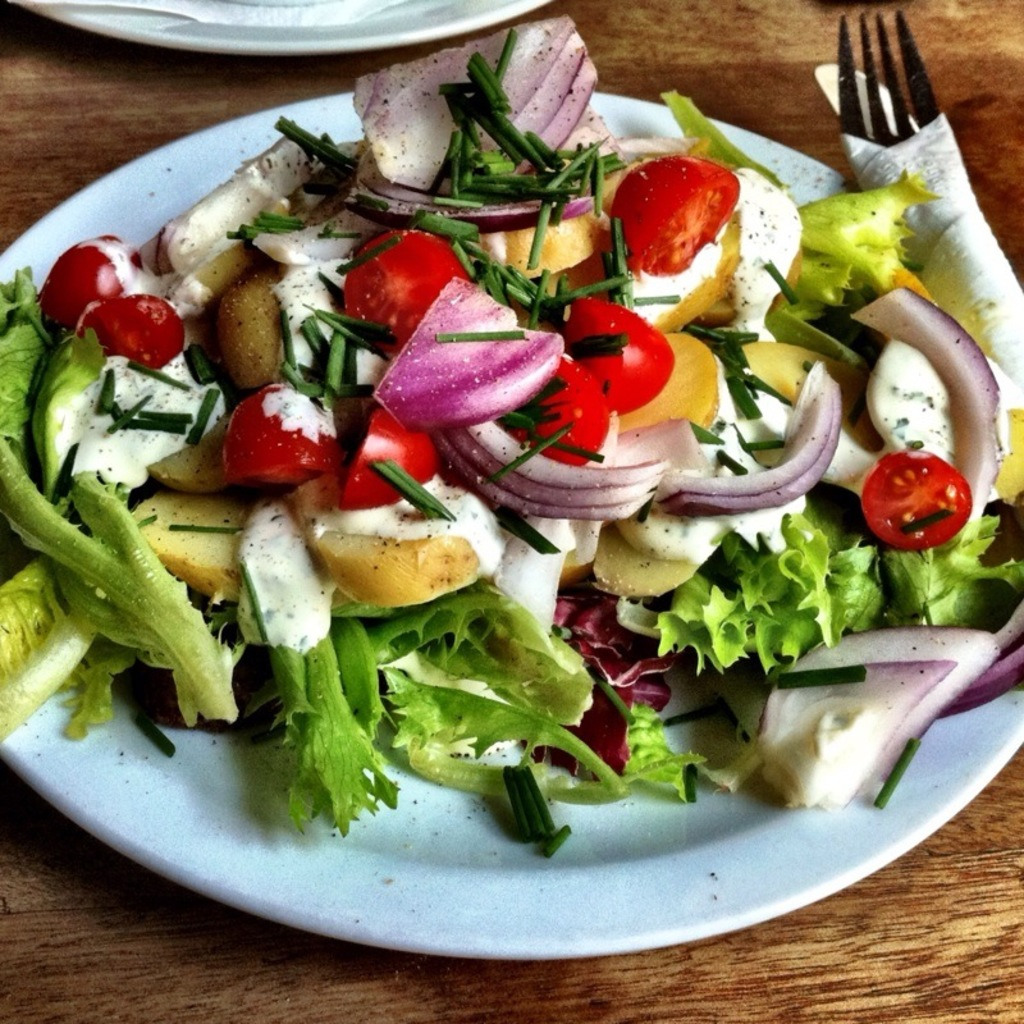Tomato: (614, 151, 739, 273), (346, 231, 470, 349), (564, 297, 675, 414), (223, 384, 332, 484), (38, 229, 143, 329), (512, 358, 607, 467), (861, 454, 968, 545), (343, 406, 437, 508), (95, 294, 188, 368)
